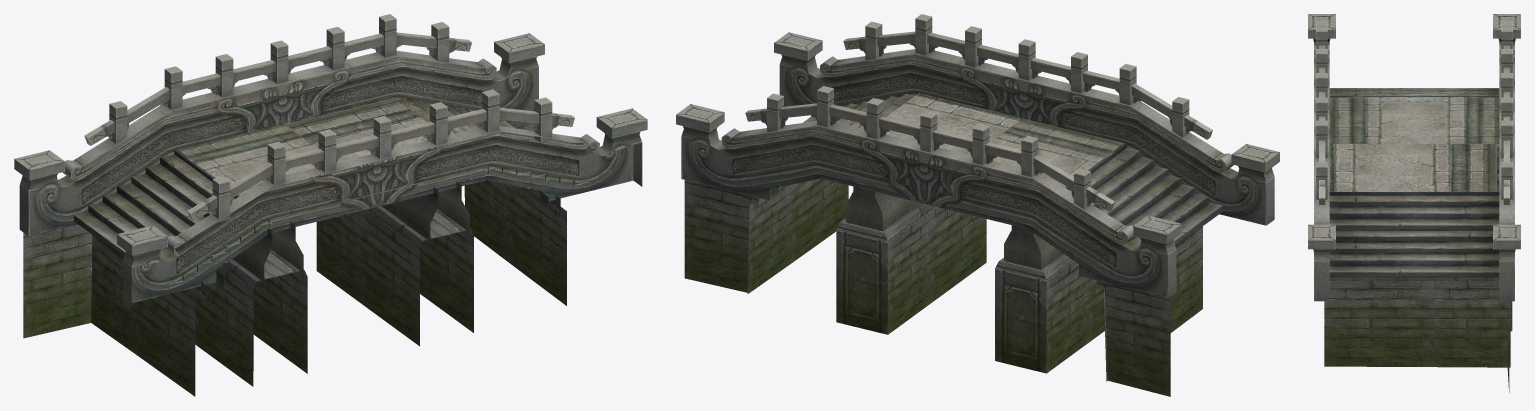
Rendered from jz_qiao01_53_34_0585out.fbx.
3 views of the same model, side by side, from view 1: azimuth 30°, elevation 25°; view 2: azimuth 150°, elevation 25°; view 3: azimuth 270°, elevation 25° (orthographic). The views are drawn at different scales.
Visible parts, largest first — view 1: jz_qiao01; view 2: jz_qiao01; view 3: jz_qiao01.
Part boxes in pixels (box(x1,y1,x2,y2)): jz_qiao01: box(14, 14, 647, 396); jz_qiao01: box(676, 14, 1279, 396); jz_qiao01: box(1308, 14, 1520, 392).
Bounding box in the file's own units: 13.8 × 6.11 × 5.49.
